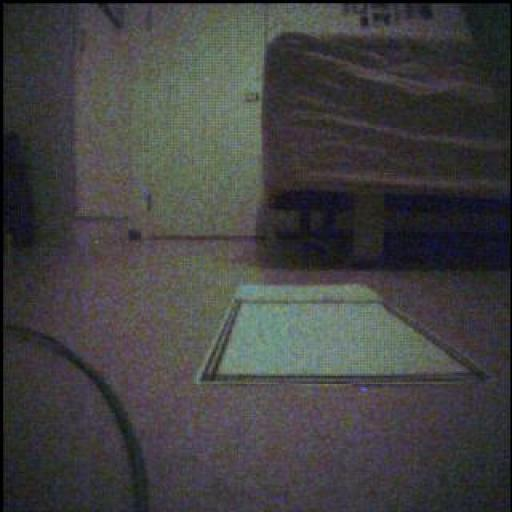pad: (200, 286, 488, 387)
